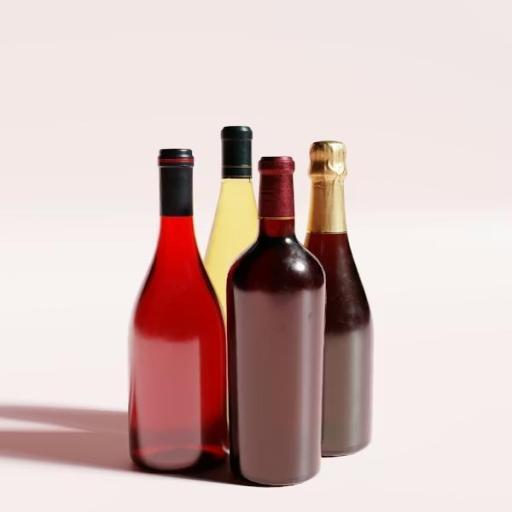bottle: (120, 144, 246, 488), (216, 152, 331, 496), (300, 132, 409, 470)
